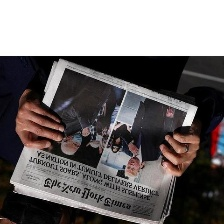news_paper: (7, 55, 197, 224)
